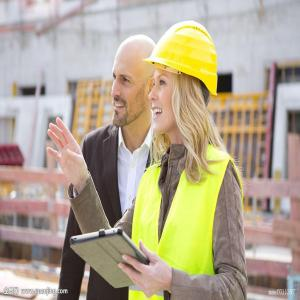none: (111, 33, 156, 128)
yellow: (151, 21, 219, 142)
